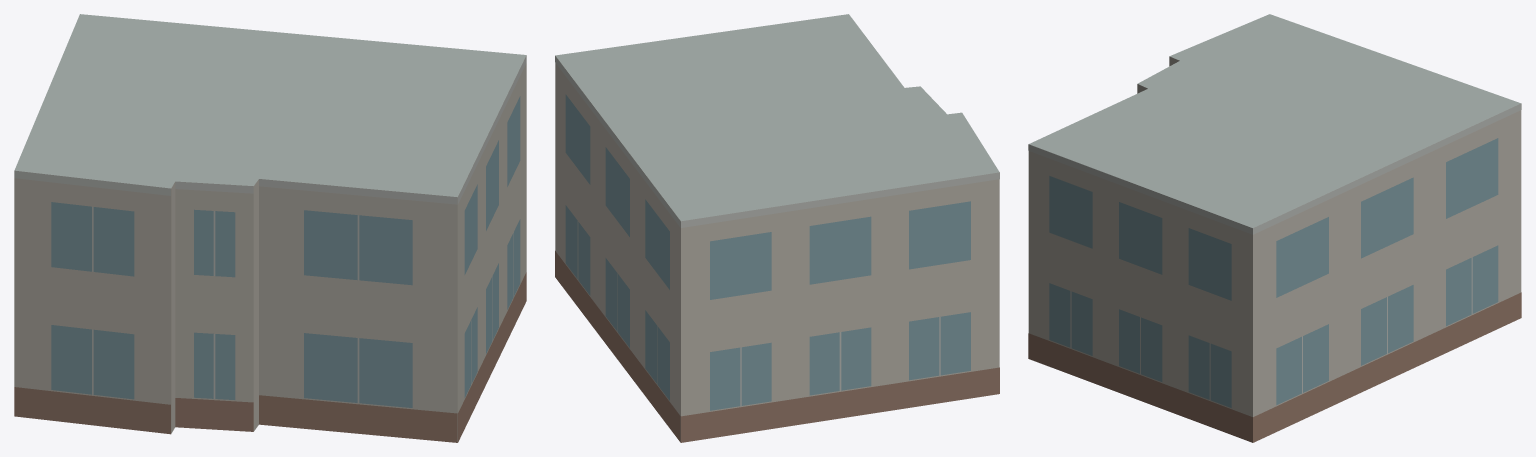
Rendered from survey-upis-32731914.glb.
3 views of the same model, side by side, from view 1: azimuth 30°, elevation 25°; view 2: azimuth 150°, elevation 25°; view 3: azimuth 270°, elevation 25° (orthographic). The views are drawn at different scales.
Parts seen in each view (by area): view 1: survey-upis-32731914.tmp; view 2: survey-upis-32731914.tmp; view 3: survey-upis-32731914.tmp.
Part boxes in pixels (<box>): survey-upis-32731914.tmp: <box>14,14,526,442</box>; survey-upis-32731914.tmp: <box>555,14,999,442</box>; survey-upis-32731914.tmp: <box>1028,14,1521,442</box>.
Bounding box in the file's own units: 17.03 × 7.95 × 16.55.
